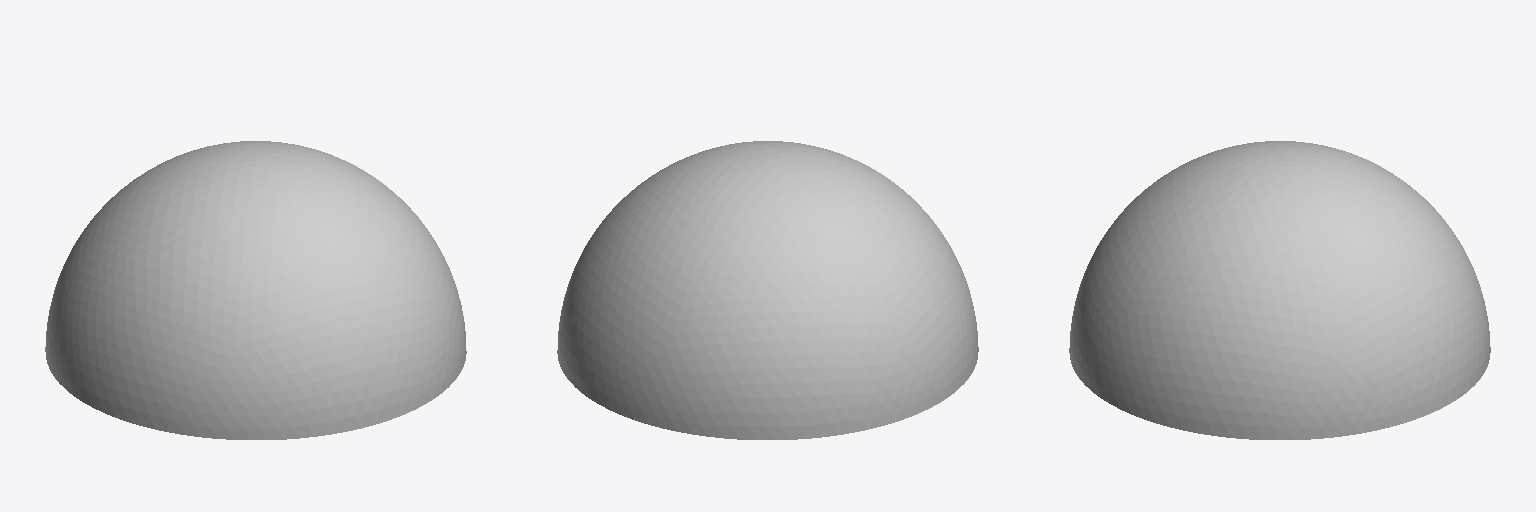
Rendered from sky.obj.
3 renders of one model, left to right at view 1: azimuth 30°, elevation 25°; view 2: azimuth 150°, elevation 25°; view 3: azimuth 270°, elevation 25°, orthographic.
Parts seen in each view (by area): view 1: hemispherical_layer1; view 2: hemispherical_layer1; view 3: hemispherical_layer1.
Boxes of the visible parts, box(x1,y1,x2,y2) form: hemispherical_layer1: box(45, 141, 466, 439); hemispherical_layer1: box(557, 141, 978, 439); hemispherical_layer1: box(1069, 141, 1490, 439).
Size of the model in its own units: 6 by 3 by 6.